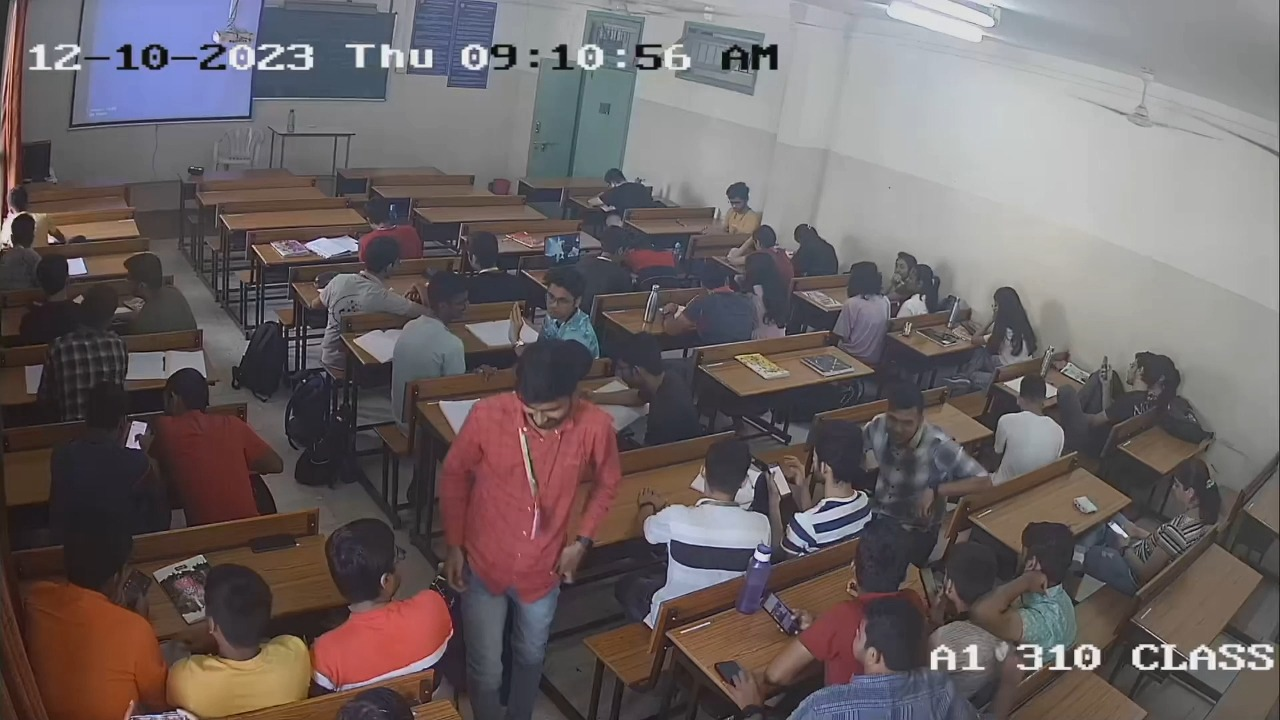cell-phones: (757, 587, 805, 638), (120, 564, 156, 612), (246, 529, 302, 557), (914, 563, 945, 608), (765, 459, 794, 500), (711, 657, 746, 690), (124, 416, 152, 452), (1104, 517, 1132, 543), (1098, 354, 1114, 384), (958, 318, 977, 336)
person: (22, 512, 168, 716), (311, 514, 457, 684), (785, 598, 982, 720), (50, 385, 160, 531), (771, 423, 874, 541), (914, 537, 998, 673), (1136, 457, 1221, 548), (1088, 348, 1164, 420), (972, 285, 1034, 360)
